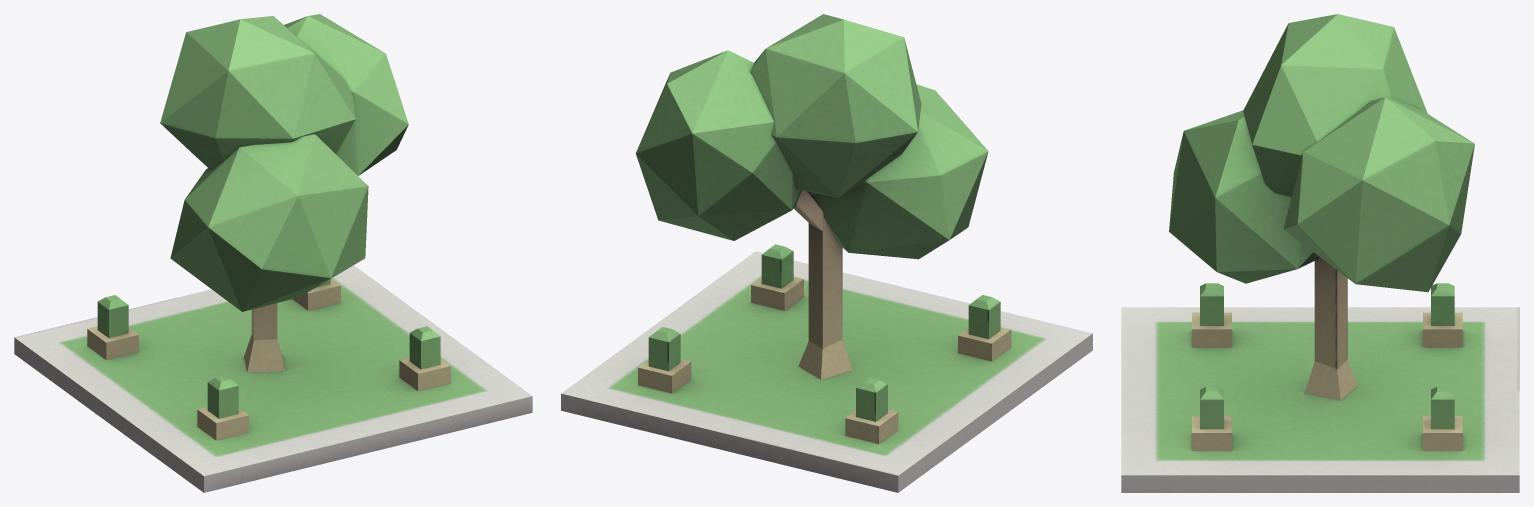
File: Park_Small_A.fbx
3 views of the same model, side by side, from view 1: azimuth 30°, elevation 25°; view 2: azimuth 150°, elevation 25°; view 3: azimuth 270°, elevation 25° (orthographic). The views are drawn at different scales.
Parts seen in each view (by area): view 1: Park_Small_A__2_; view 2: Park_Small_A__2_; view 3: Park_Small_A__2_.
Part boxes in pixels (x1,y1,x2,y2): Park_Small_A__2_: [14, 14, 532, 492]; Park_Small_A__2_: [561, 14, 1092, 492]; Park_Small_A__2_: [1121, 14, 1519, 492].
Size of the model in its own units: 1000 by 1059 by 1000.
